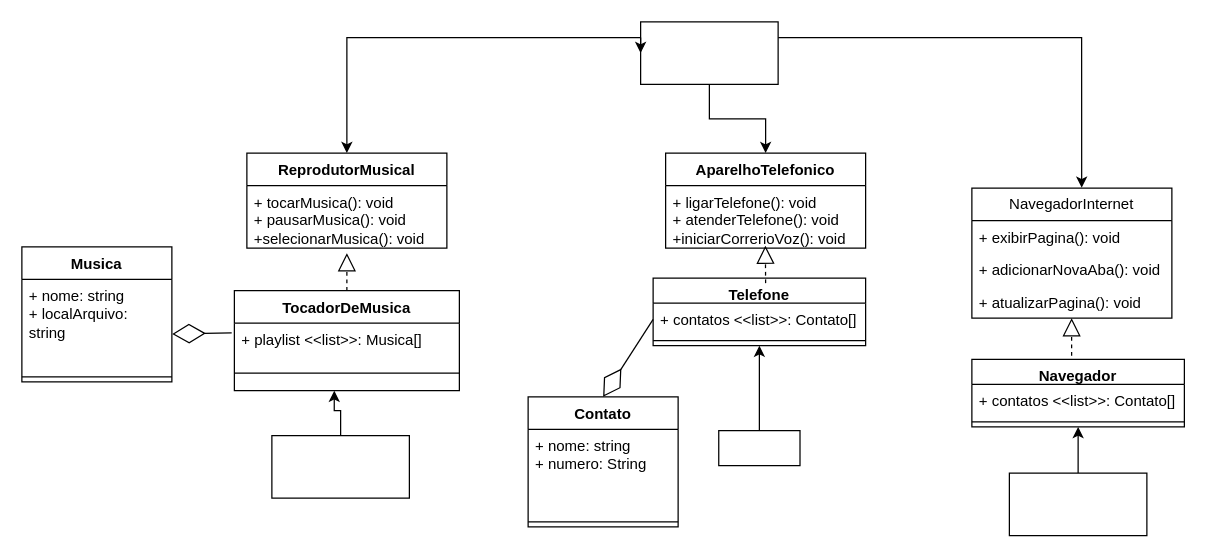
The diagram is 1206 pixels wide and 558 high, and some of its shapes have lost their labels. Each missing label, with the centre of its shape:
"Discman" belongs at point 340,466.
"Iphone" belongs at point 708,52.
"Netscape" belongs at point 1077,504.
"Nokia N95" belongs at point 759,447.
